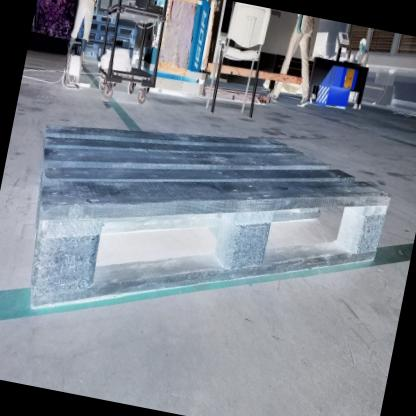BoxFace: (29, 122, 393, 319)
